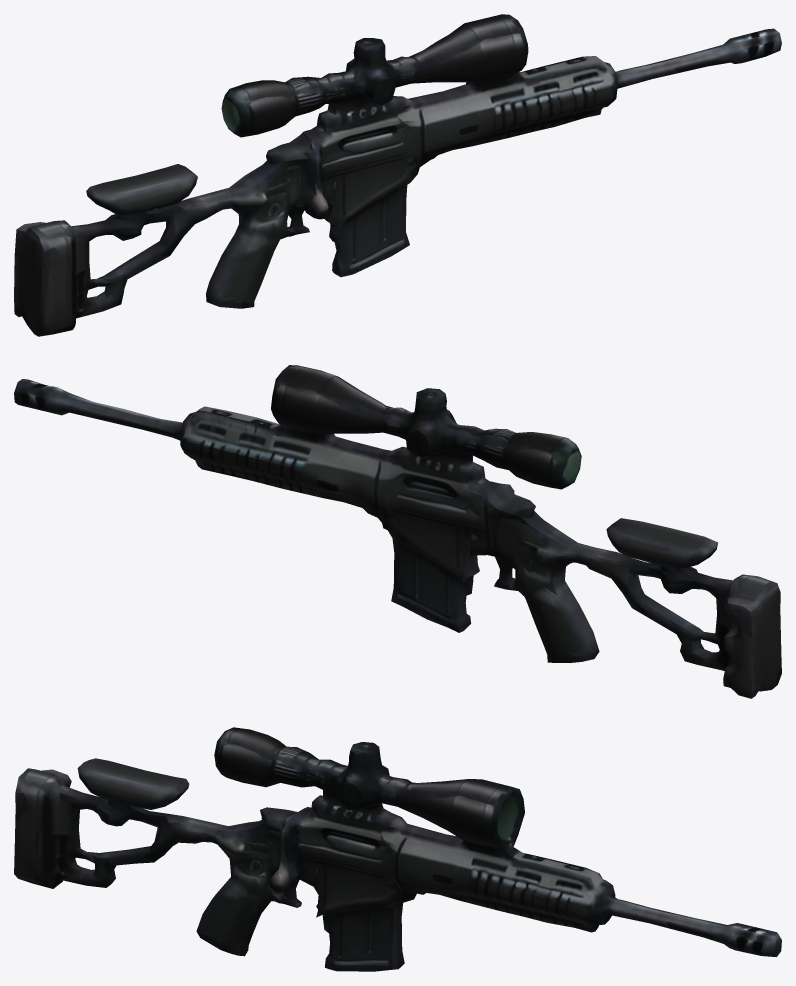
The model's file is sniperrifle.glb.
The picture shows the model from 3 angles, top to bottom: view 1: azimuth 30°, elevation 25°; view 2: azimuth 150°, elevation 25°; view 3: azimuth 330°, elevation 25°; orthographic projection.
Visible parts, largest first — view 1: SniperRifle; view 2: SniperRifle; view 3: SniperRifle.
Part boxes in pixels (x1,y1,x2,y2): SniperRifle: (14, 14, 781, 336); SniperRifle: (14, 365, 781, 698); SniperRifle: (14, 727, 781, 971).
Size of the model in its own units: 1.05 by 0.315 by 0.0995.
1 material, 1 textured.
